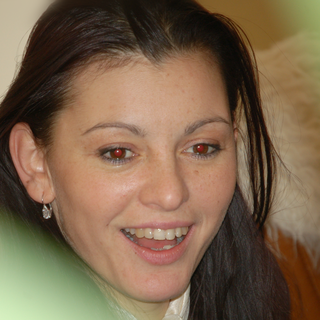eye: (91, 140, 142, 166), (182, 138, 227, 163)
